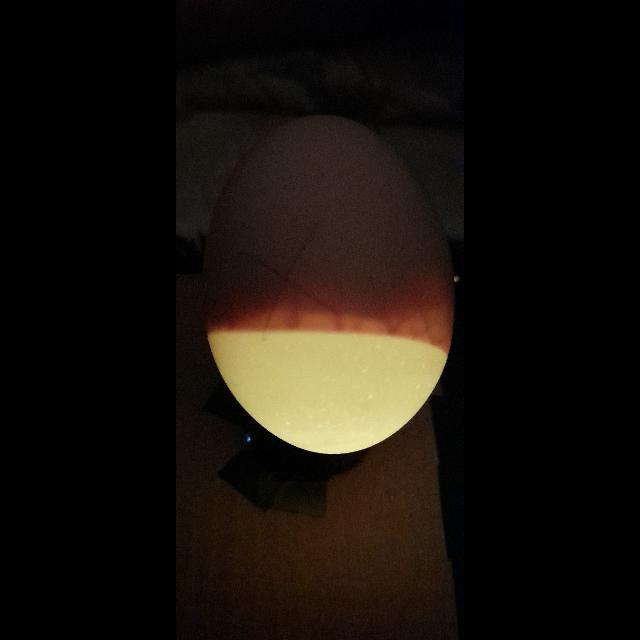Fertile: (204, 99, 452, 457)
